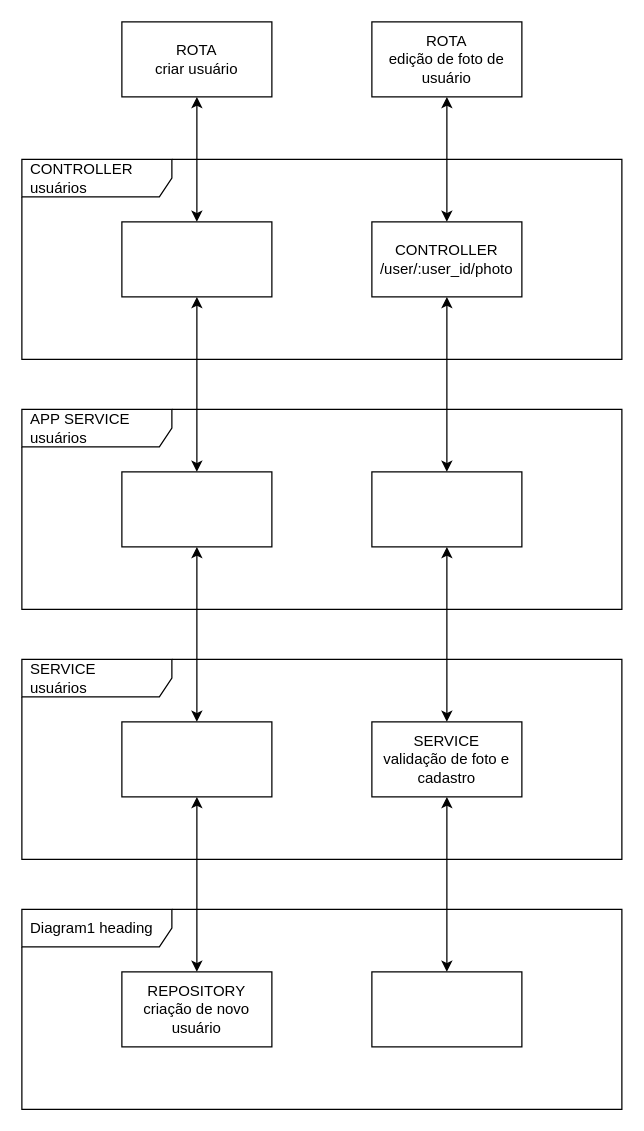
This 644x1131 diagram has some shape labels left out. The centre of each missing label's shape, as x and y in pixels:
"APP SERVICE criar usuário" goes at [196,509].
"APP SERVICE edição de foto de usuário" goes at [446,509].
"CONTROLLER /user (post)" goes at [196,259].
"REPOSITORY atualização de foto" goes at [446,1009].
"SERVICE validação e criação de usuário" goes at [196,759].
